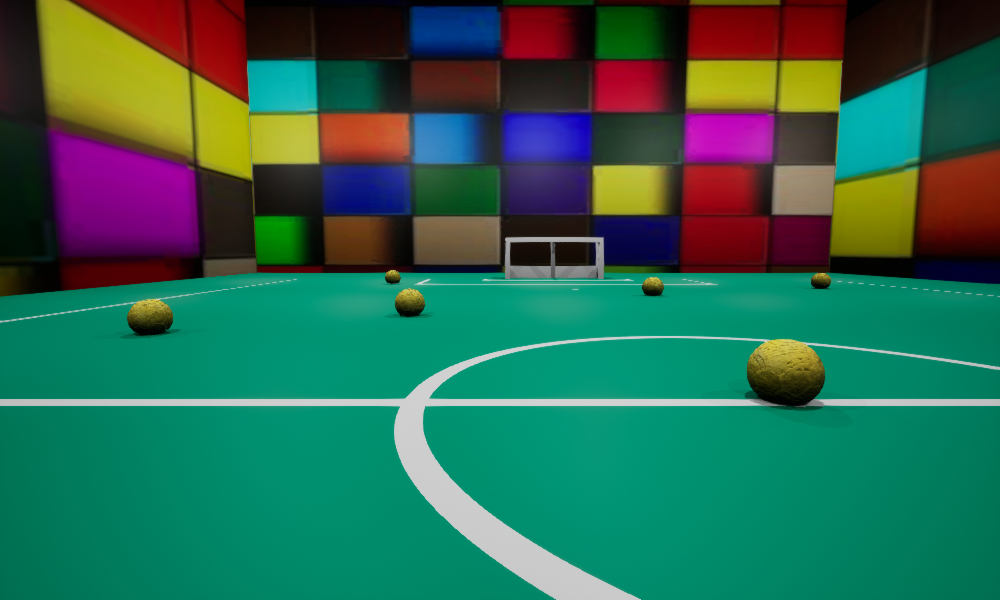b: (747, 339, 824, 402), (127, 299, 172, 334), (395, 288, 424, 315), (642, 277, 663, 295), (811, 273, 830, 288), (385, 270, 400, 283)
g: (505, 237, 603, 278)
